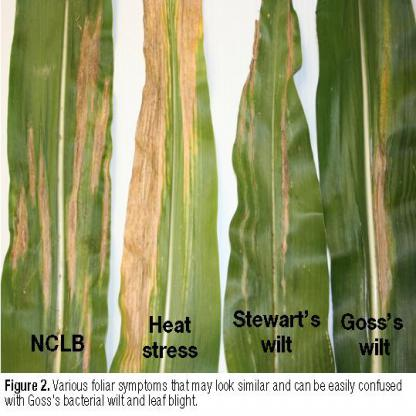Corn leaf blight: (8, 2, 113, 328), (119, 2, 224, 313), (226, 1, 329, 308), (316, 1, 415, 311)
